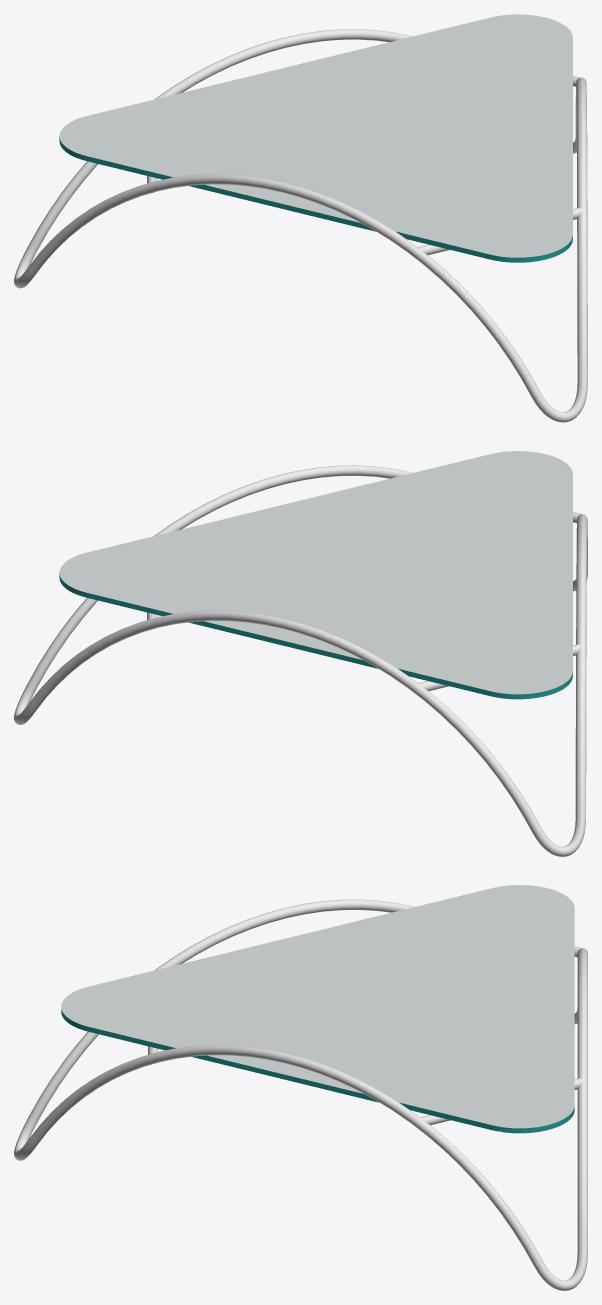
The model's file is glasstest_substance.fbx.
The picture shows the model from 3 angles, top to bottom: view 1: azimuth 30°, elevation 25°; view 2: azimuth 150°, elevation 25°; view 3: azimuth 270°, elevation 25°; orthographic projection.
Parts seen in each view (by area): view 1: RayCoffeeTable_Top.001, RayCoffeeTable_Leg, RayCoffeeTable_Top; view 2: RayCoffeeTable_Top.001, RayCoffeeTable_Leg, RayCoffeeTable_Top; view 3: RayCoffeeTable_Top.001, RayCoffeeTable_Leg, RayCoffeeTable_Top.
Boxes of the visible parts, x1,y1,x2,y2 form: RayCoffeeTable_Top.001: (59,14,572,257); RayCoffeeTable_Leg: (14,29,587,422); RayCoffeeTable_Top: (59,136,572,262); RayCoffeeTable_Top.001: (59,451,572,694); RayCoffeeTable_Leg: (14,465,587,856); RayCoffeeTable_Top: (59,573,572,699); RayCoffeeTable_Top.001: (61,885,574,1131); RayCoffeeTable_Leg: (14,899,587,1290); RayCoffeeTable_Top: (61,1009,574,1133).
Bounding box in the file's own units: 118 × 35.41 × 104.
